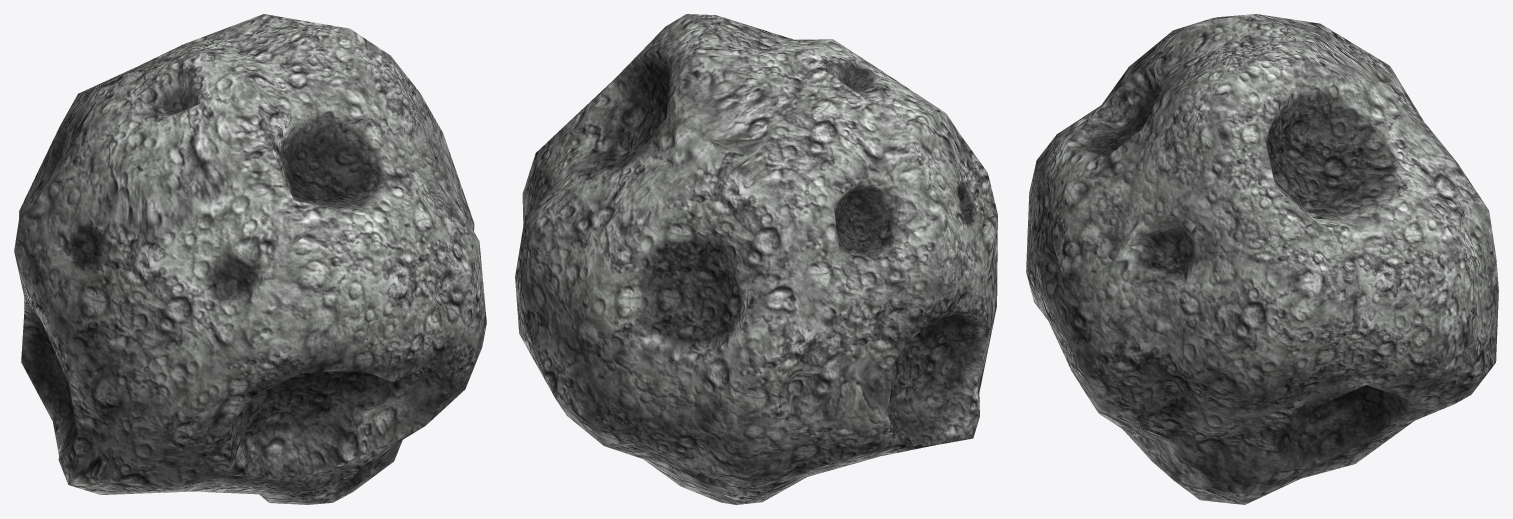
File: asteroid.obj
3 renders of one model, left to right at view 1: azimuth 30°, elevation 25°; view 2: azimuth 150°, elevation 25°; view 3: azimuth 270°, elevation 25°, orthographic. The views are drawn at different scales.
Parts seen in each view (by area): view 1: Asteroid_Mob_01; view 2: Asteroid_Mob_01; view 3: Asteroid_Mob_01.
Boxes of the visible parts, x1,y1,x2,y2 form: Asteroid_Mob_01: (14, 14, 486, 504); Asteroid_Mob_01: (515, 14, 997, 504); Asteroid_Mob_01: (1026, 14, 1498, 504).
Bounding box in the file's own units: 8.67 × 8.86 × 8.6.
